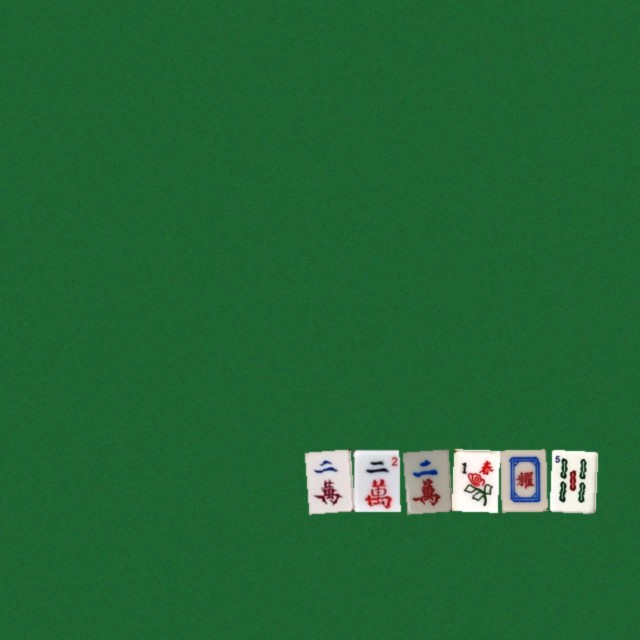tile: (304, 449, 350, 511), (353, 449, 399, 511), (402, 449, 448, 511), (451, 449, 497, 511), (500, 449, 546, 511), (549, 449, 595, 511)
